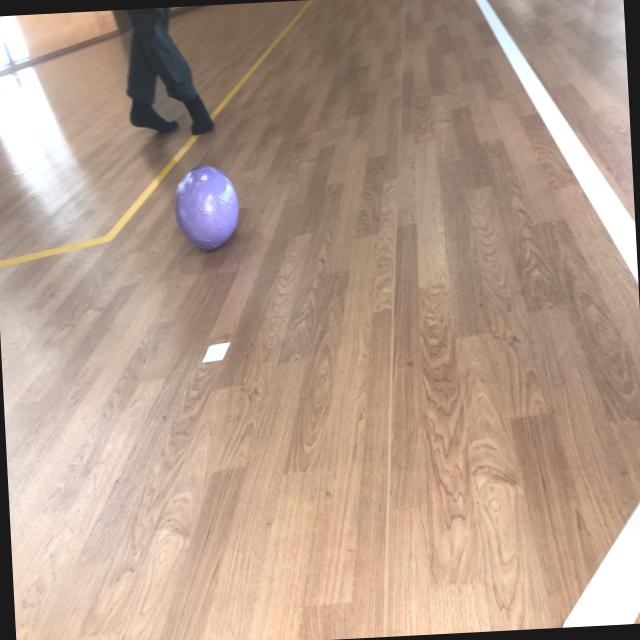purple_ball: (174, 165, 242, 250)
